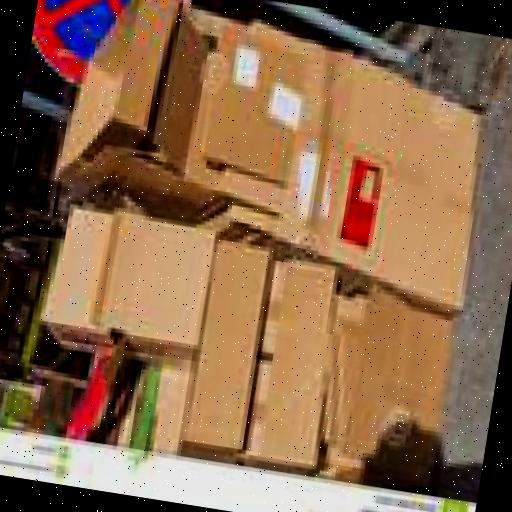cardboard: (256, 32, 498, 317), (70, 0, 243, 220), (332, 278, 464, 486), (236, 246, 348, 468), (44, 0, 166, 200), (176, 225, 276, 460), (176, 40, 296, 210), (197, 8, 309, 180), (88, 205, 209, 363), (32, 192, 138, 351), (308, 286, 388, 470), (62, 340, 124, 440), (106, 352, 159, 446), (142, 354, 191, 446), (204, 196, 268, 238)
